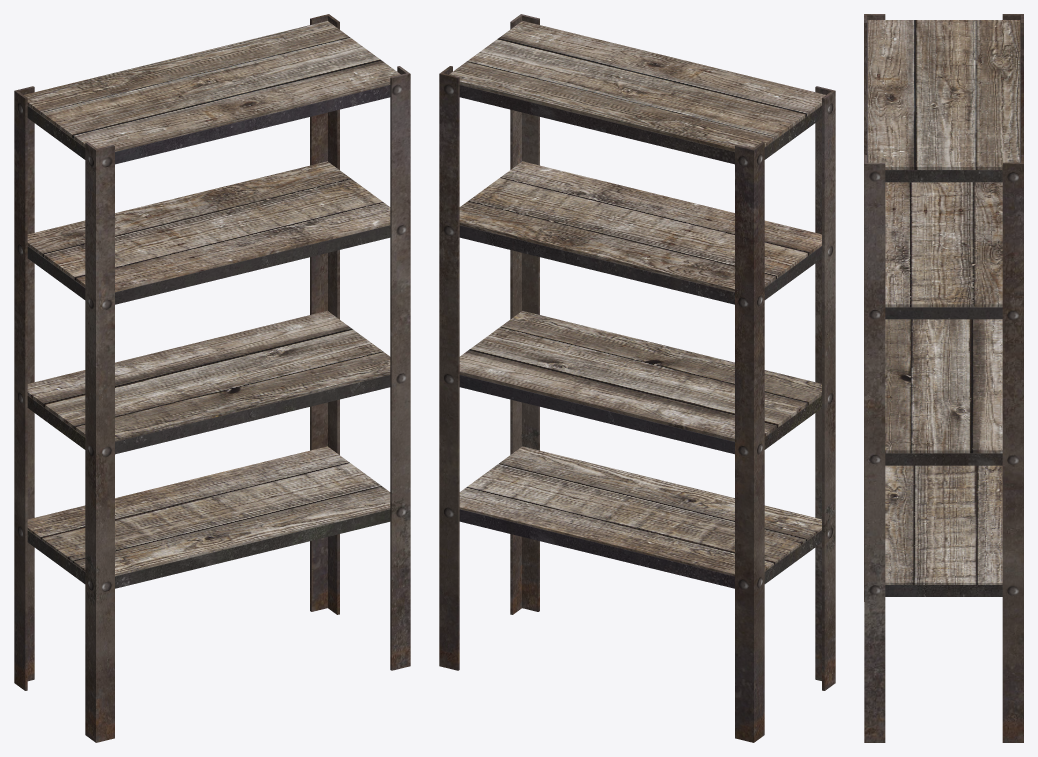
File: estante.fbx
3 views of the same model, side by side, from view 1: azimuth 30°, elevation 25°; view 2: azimuth 150°, elevation 25°; view 3: azimuth 270°, elevation 25° (orthographic). The views are drawn at different scales.
Visible parts, largest first — view 1: estante; view 2: estante; view 3: estante.
Part boxes in pixels (x1,y1,x2,y2): estante: (14, 14, 410, 742); estante: (439, 14, 835, 742); estante: (864, 14, 1023, 742).
Size of the model in its own units: 100 by 180 by 45.
